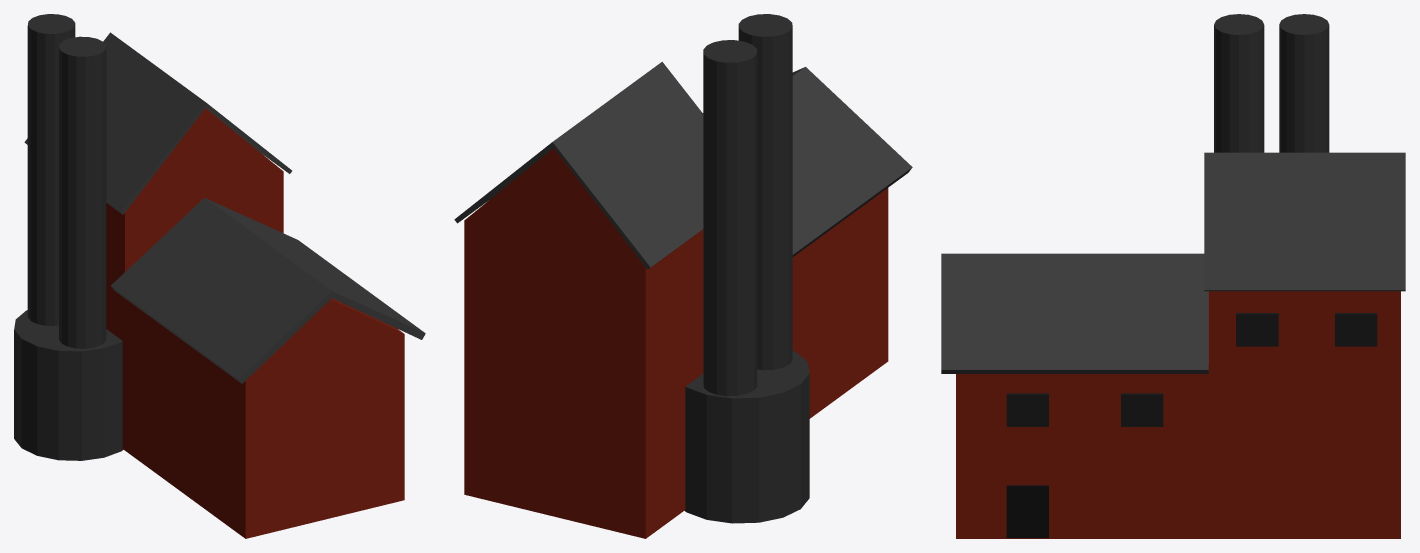
Rendered from Sawmill2.glb.
3 renders of one model, left to right at view 1: azimuth 30°, elevation 25°; view 2: azimuth 150°, elevation 25°; view 3: azimuth 270°, elevation 25°, orthographic. The views are drawn at different scales.
Parts seen in each view (by area): view 1: Sawmill1; view 2: Sawmill1; view 3: Sawmill1.
Part boxes in pixels (x1,y1,x2,y2): Sawmill1: (14,14,425,538); Sawmill1: (454,14,912,538); Sawmill1: (941,14,1405,538).
Size of the model in its own units: 3.11 by 4.83 by 4.83.
Materials: 1 (1 with a texture image).
